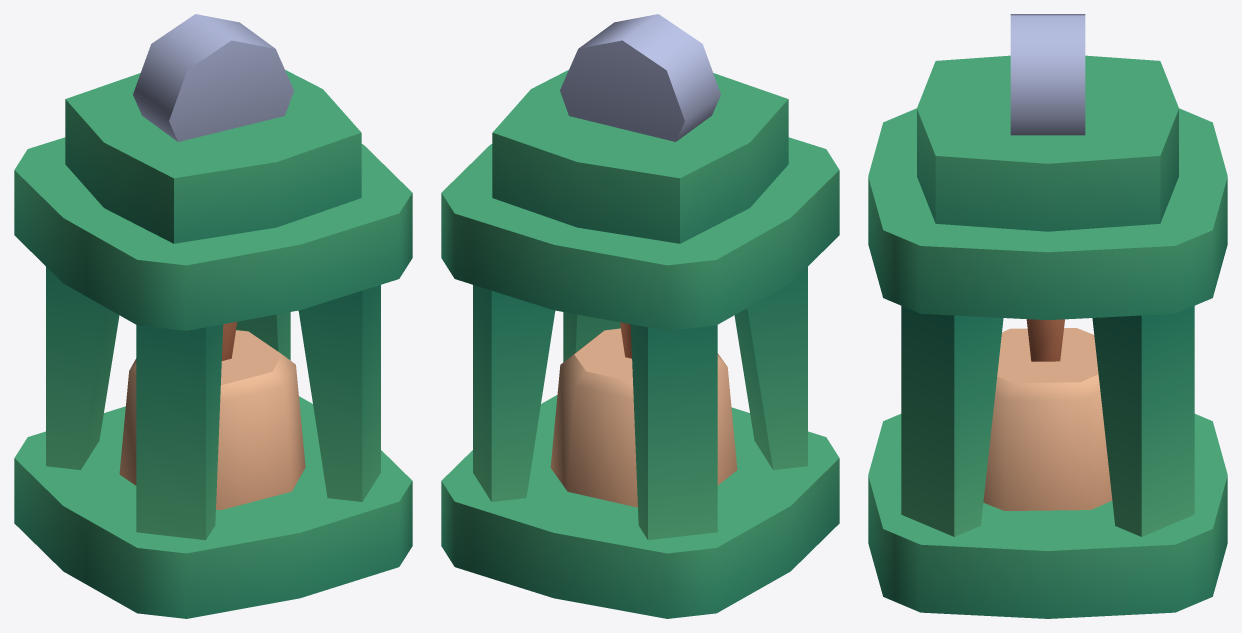
The model's file is lantern-candle_lev2.glb.
3 renders of one model, left to right at view 1: azimuth 30°, elevation 25°; view 2: azimuth 150°, elevation 25°; view 3: azimuth 270°, elevation 25°, orthographic. The views are drawn at different scales.
Visible parts, largest first — view 1: lantern-candle_lev2; view 2: lantern-candle_lev2; view 3: lantern-candle_lev2.
Part boxes in pixels (<box>): lantern-candle_lev2: <box>14,14,412,618</box>; lantern-candle_lev2: <box>441,14,839,618</box>; lantern-candle_lev2: <box>868,14,1227,618</box>.
Size of the model in its own units: 0.24 by 0.3877 by 0.24.
Materials: 1 (1 with a texture image).
